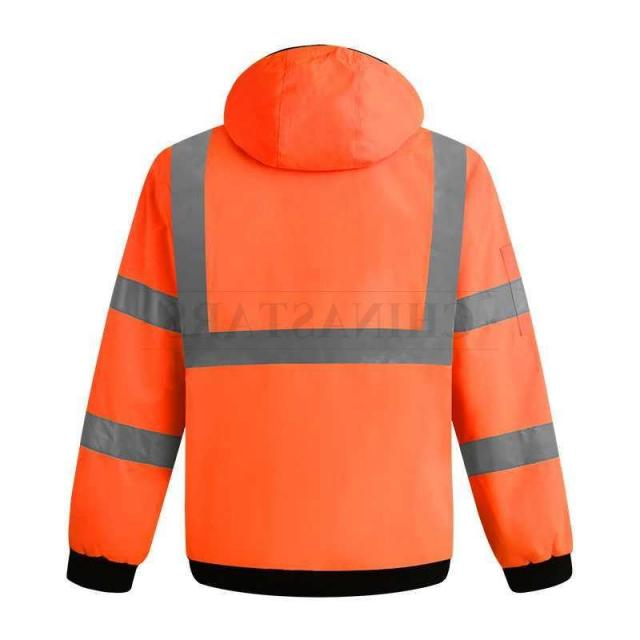Reflective-Jacket: (42, 96, 624, 630)
